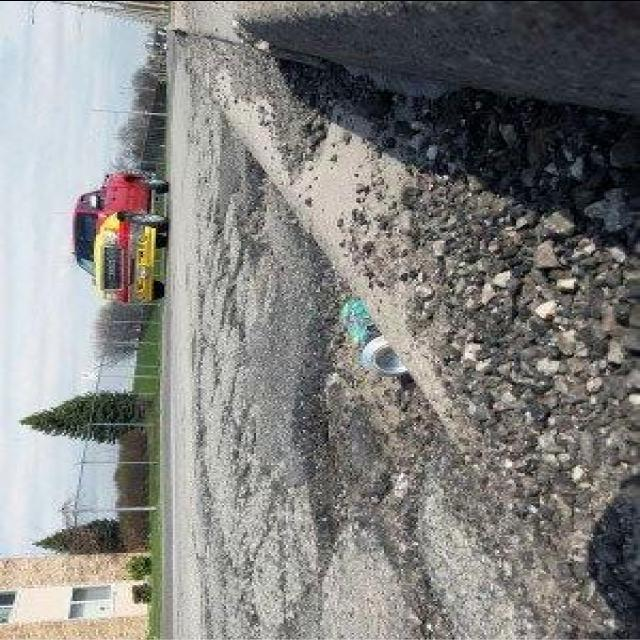jalan retak: (355, 498, 494, 640), (170, 386, 252, 626), (242, 464, 342, 640), (184, 264, 268, 426), (170, 51, 223, 169)
lubang: (279, 263, 472, 556), (202, 148, 282, 330)
